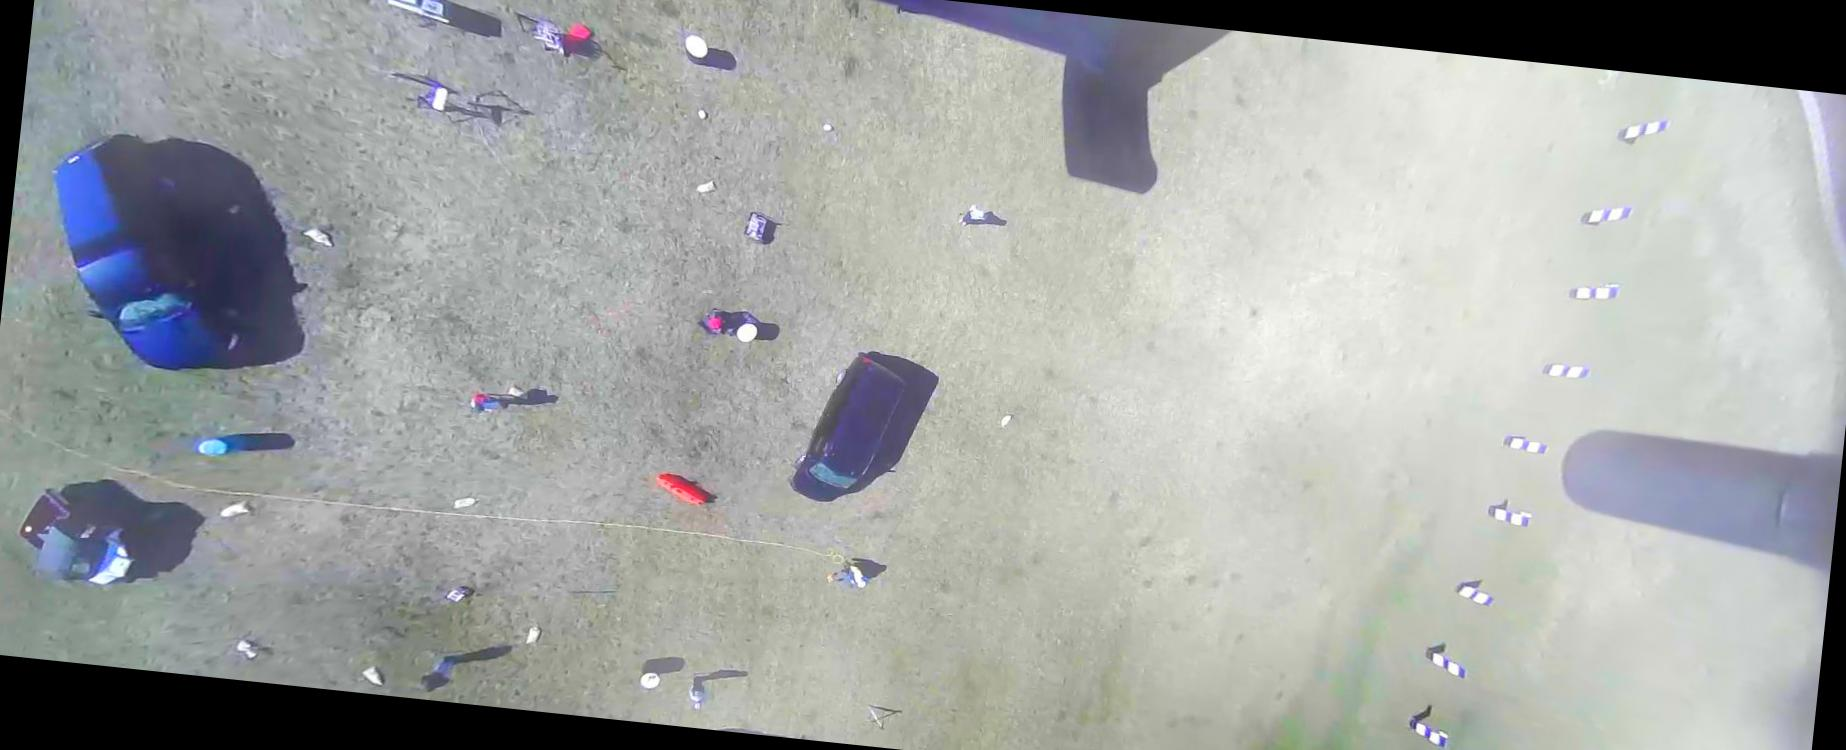vehicle: (33, 126, 264, 378), (784, 349, 910, 510), (11, 484, 148, 591)
